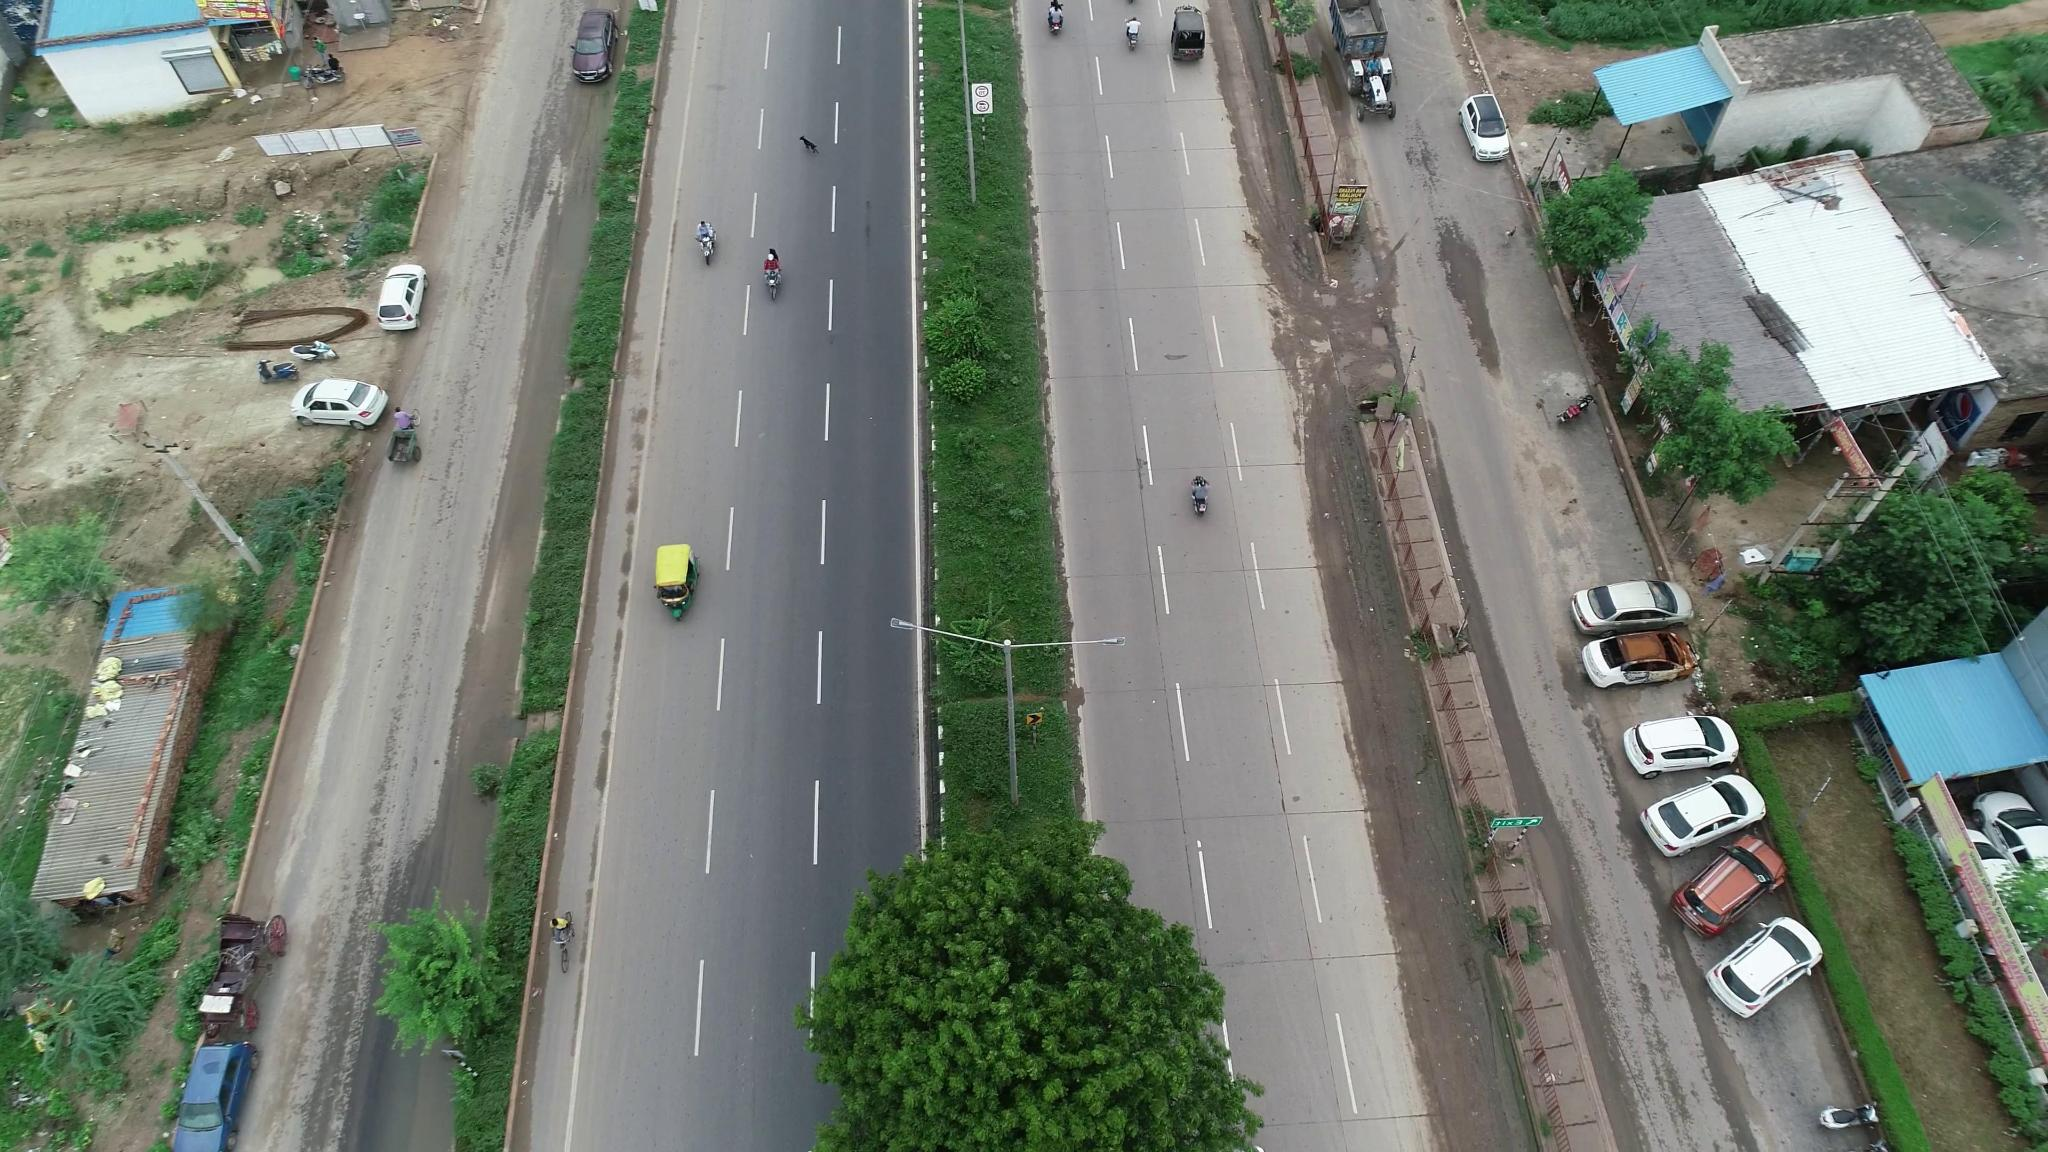Muddy_road: (1378, 890, 1511, 1137), (1317, 449, 1423, 660), (1352, 681, 1463, 876)
